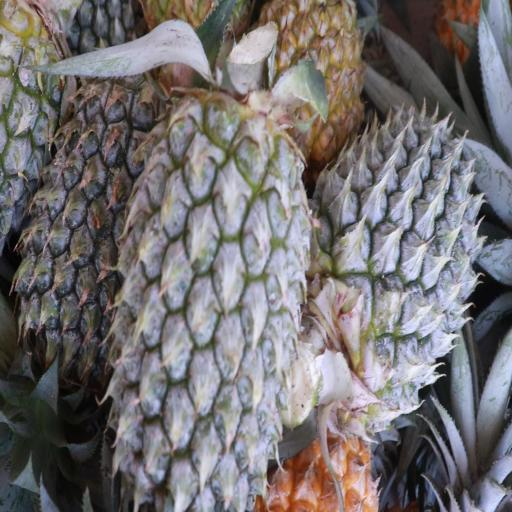Pineapple - v8 v1: (266, 2, 367, 152)
